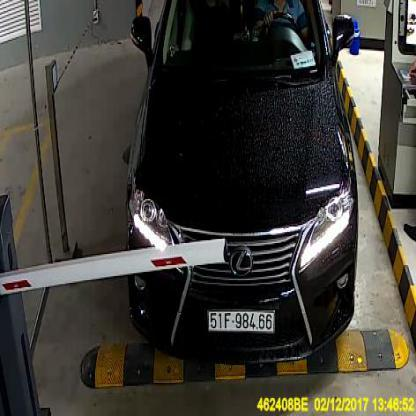biensoxe: (209, 312, 274, 330)
